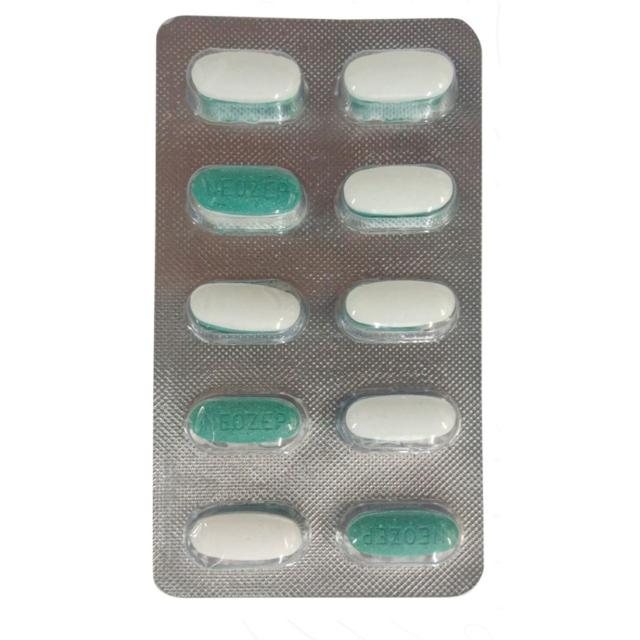blister: (150, 11, 488, 601)
